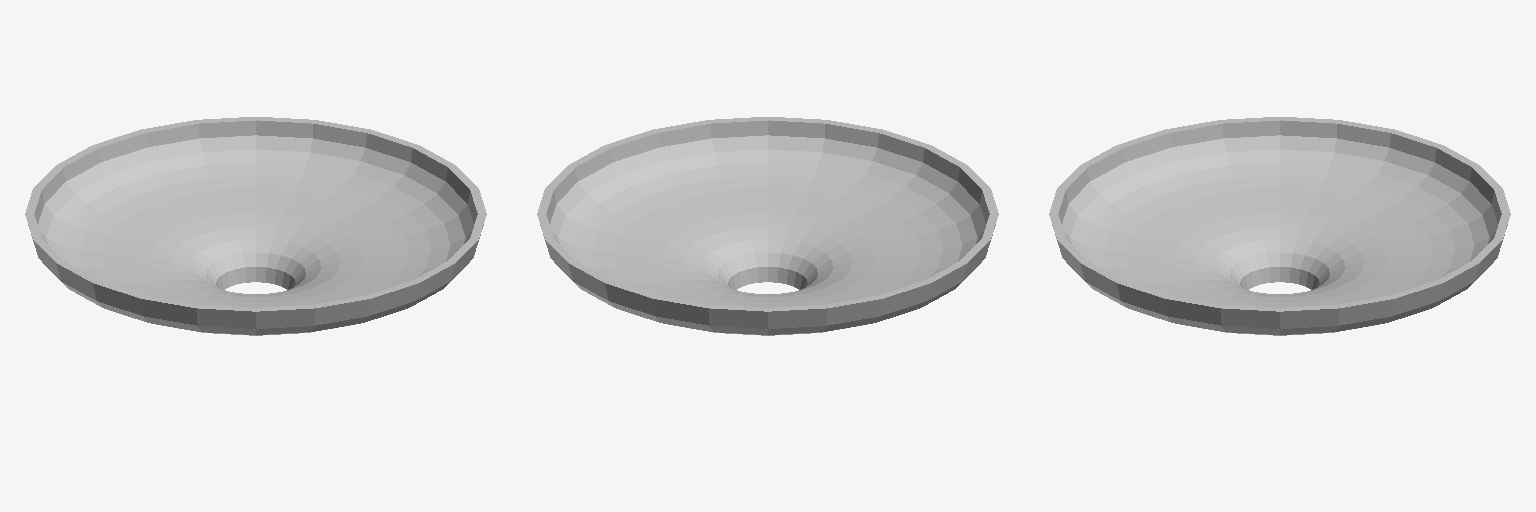
File: hopper.obj
The picture shows the model from 3 angles: view 1: azimuth 30°, elevation 25°; view 2: azimuth 150°, elevation 25°; view 3: azimuth 270°, elevation 25°; orthographic projection.
Parts seen in each view (by area): view 1: Hopper_Mesh; view 2: Hopper_Mesh; view 3: Hopper_Mesh.
Part boxes in pixels (bbox=[...]): Hopper_Mesh: bbox=[25, 117, 486, 335]; Hopper_Mesh: bbox=[537, 117, 998, 335]; Hopper_Mesh: bbox=[1049, 117, 1510, 335].
Bounding box in the file's own units: 10 × 2 × 10.